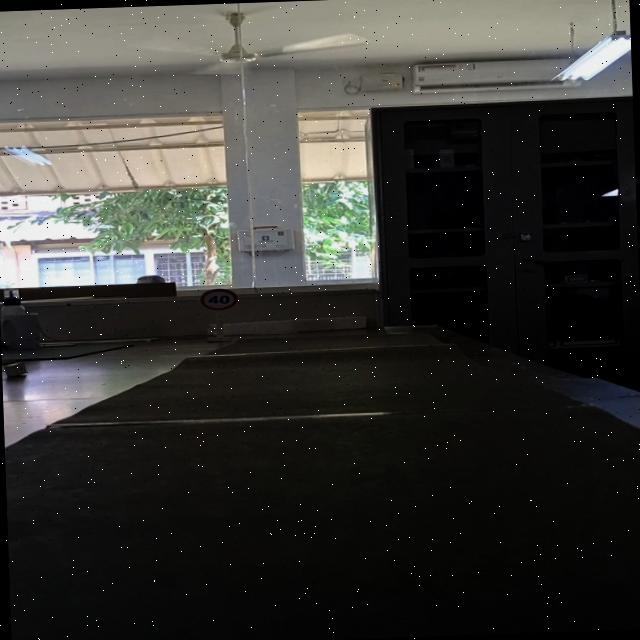Speed40: (198, 286, 238, 311)
